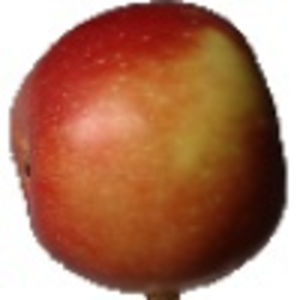maçã braeburn: (3, 3, 292, 294)
